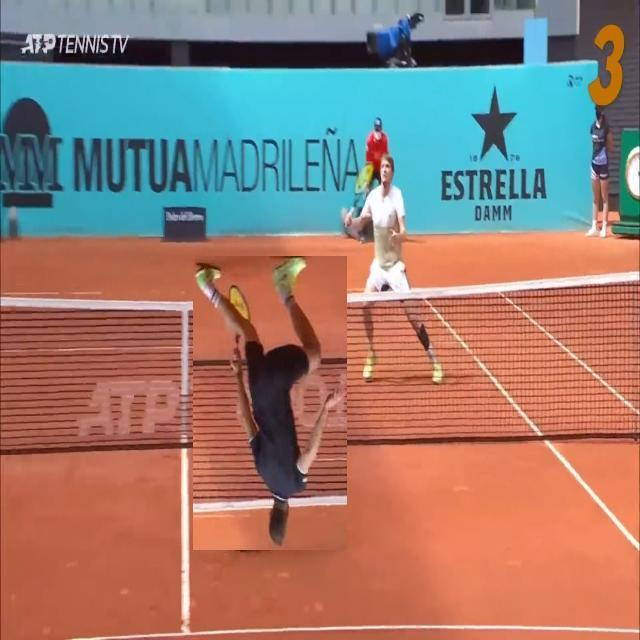player: (193, 256, 347, 550)
